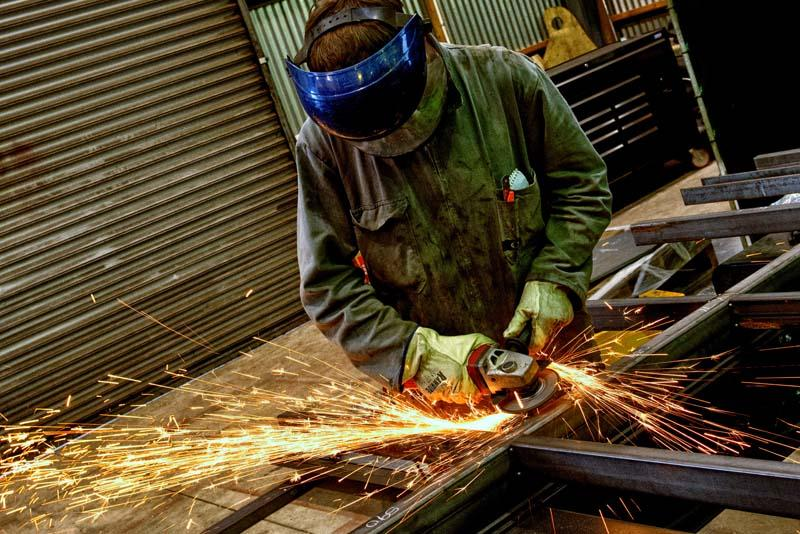controlled_fire: (97, 341, 740, 486)
